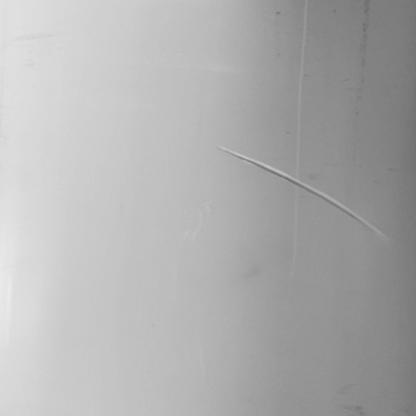sunshang: (211, 148, 382, 239)
